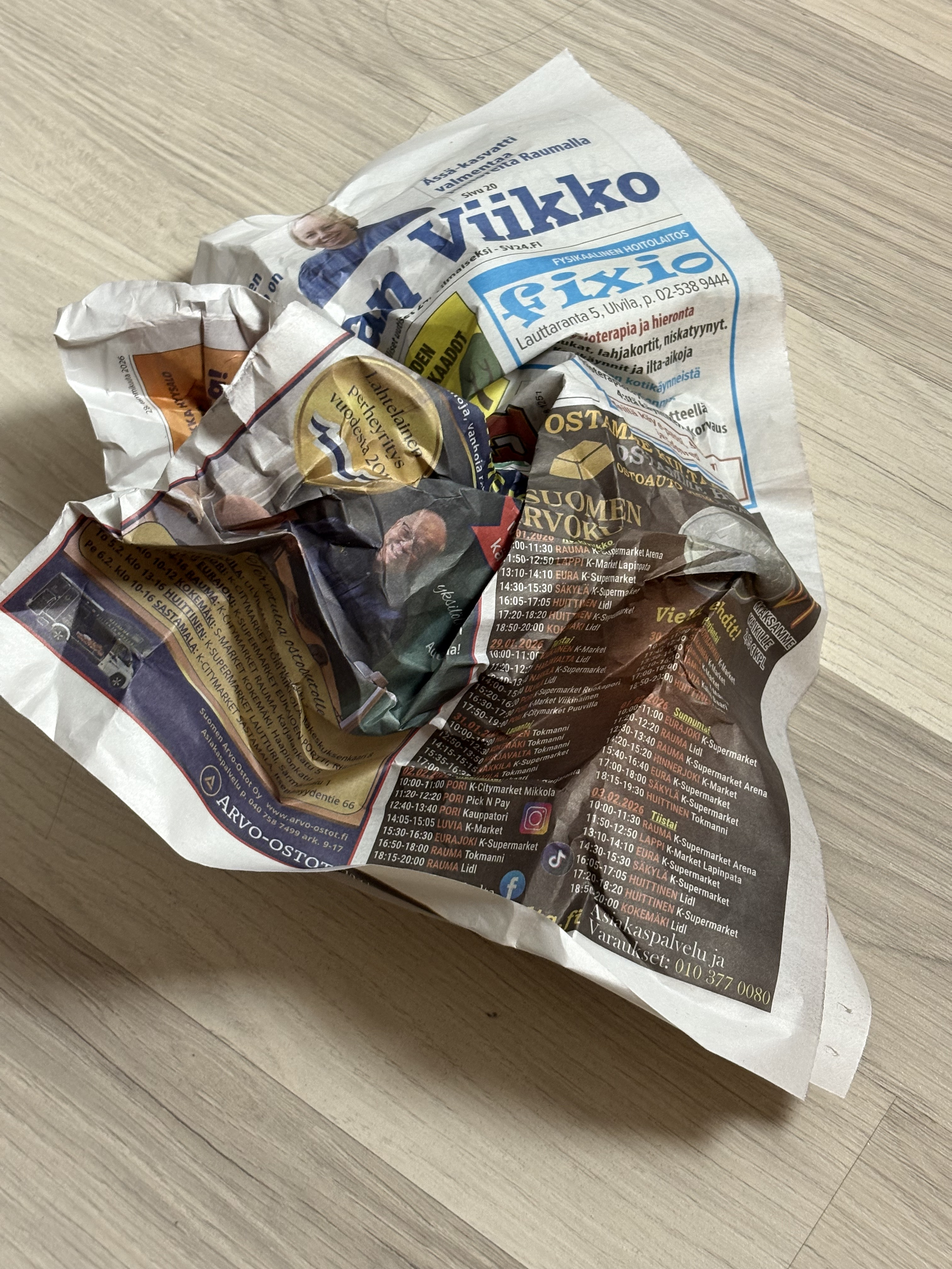paper: (0, 48, 877, 1104)
